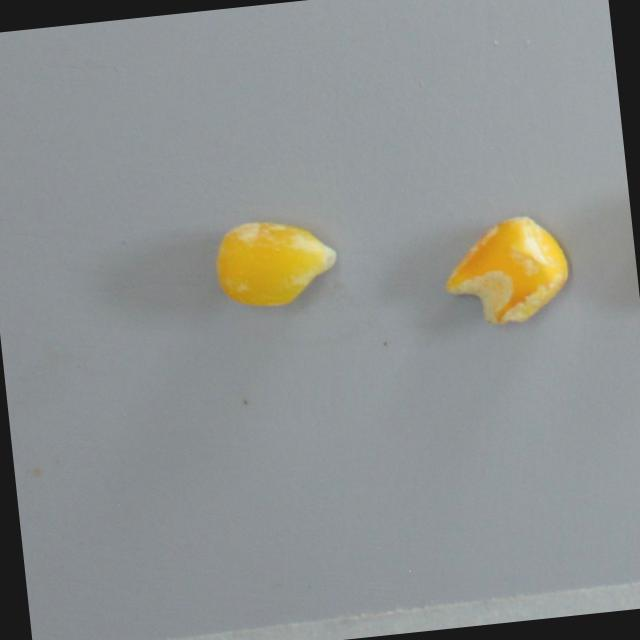pelicula: (437, 210, 574, 328), (210, 213, 340, 312)
